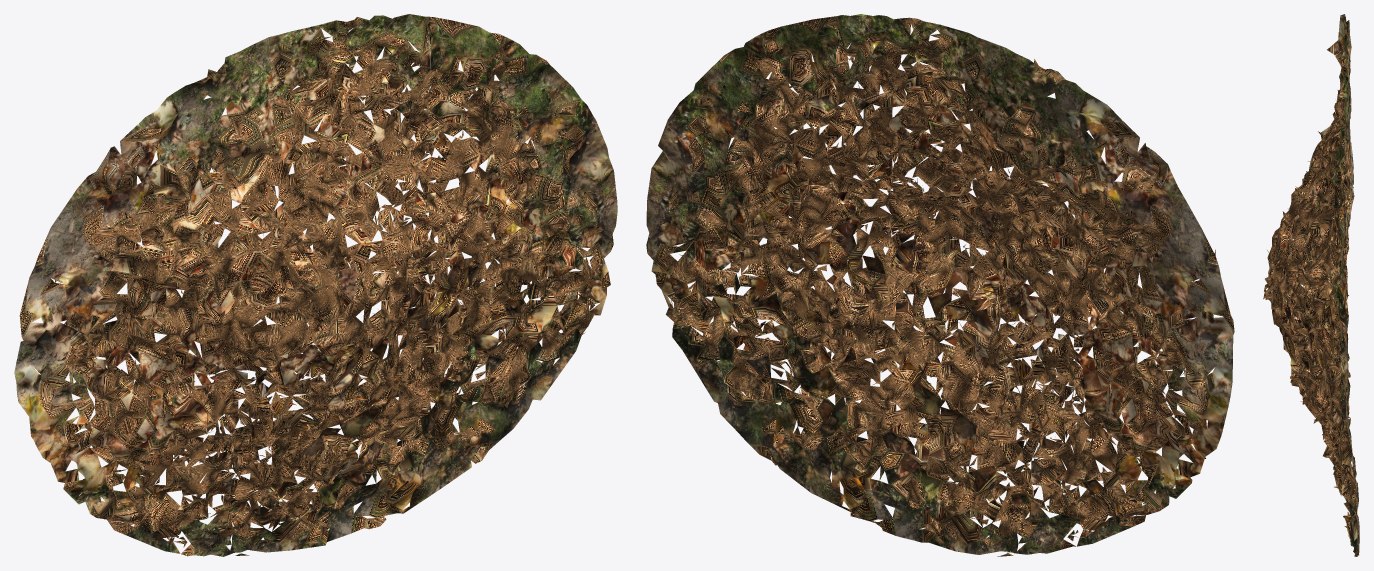
3 views of the same model, side by side, from view 1: azimuth 30°, elevation 25°; view 2: azimuth 150°, elevation 25°; view 3: azimuth 270°, elevation 25° (orthographic). The views are drawn at different scales.
Parts seen in each view (by area): view 1: Object_2, Object_3; view 2: Object_2, Object_3; view 3: Object_2, Object_3.
Boxes of the visible parts, bbox=[...] form: Object_2: bbox=[14, 14, 617, 556]; Object_3: bbox=[33, 26, 609, 555]; Object_2: bbox=[646, 14, 1234, 554]; Object_3: bbox=[671, 21, 1215, 556]; Object_2: bbox=[1264, 14, 1359, 556]; Object_3: bbox=[1263, 32, 1359, 556].
Bounding box in the file's own units: 19.67 × 16.48 × 3.05.
Materials: 1 (1 with a texture image).
